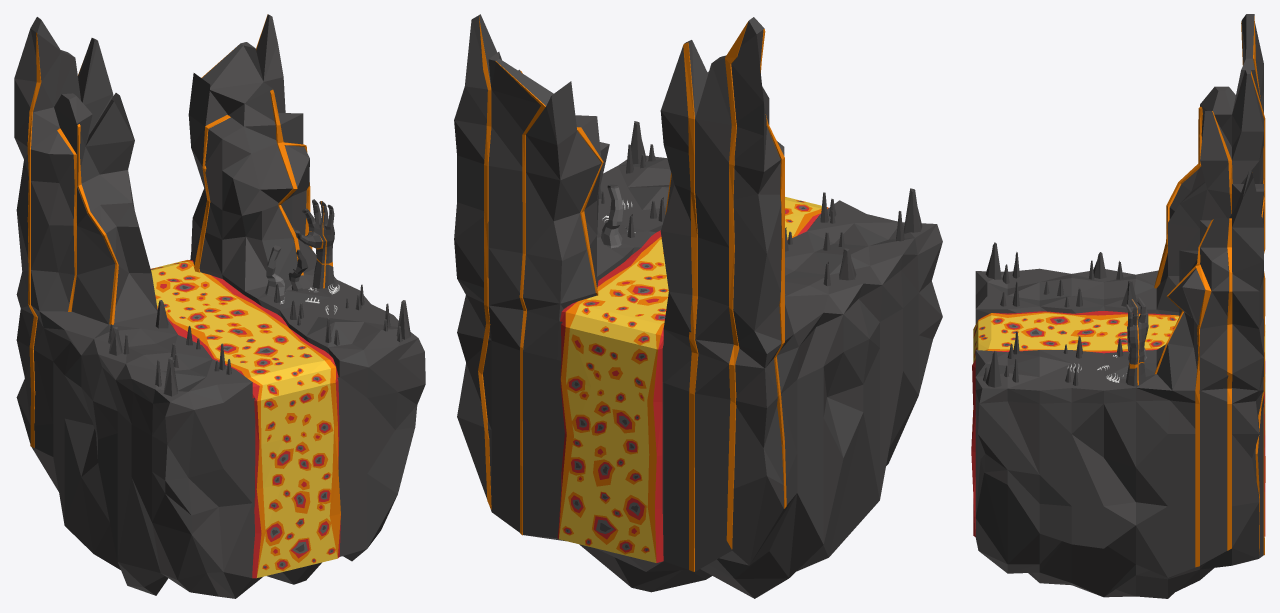
Rendered from Island_3.fbx.
The picture shows the model from 3 angles, left to right: view 1: azimuth 30°, elevation 25°; view 2: azimuth 150°, elevation 25°; view 3: azimuth 270°, elevation 25°; orthographic projection. The views are drawn at different scales.
Parts seen in each view (by area): view 1: Island_3_Base, Island_3_Hand, Island_3; view 2: Island_3_Base, Island_3; view 3: Island_3_Base, Island_3_Hand.
Boxes of the visible parts, x1,y1,x2,y2 form: Island_3_Base: (14, 14, 425, 598); Island_3_Hand: (295, 199, 334, 288); Island_3: (264, 245, 339, 314); Island_3_Base: (454, 14, 942, 598); Island_3: (601, 184, 635, 248); Island_3_Base: (971, 14, 1265, 598); Island_3_Hand: (1125, 297, 1148, 386).
Bounding box in the file's own units: 2047 × 2041 × 4007.
